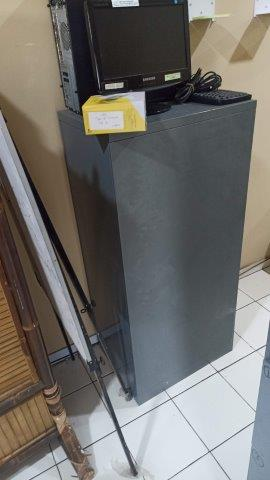kardus: (82, 92, 146, 134)
